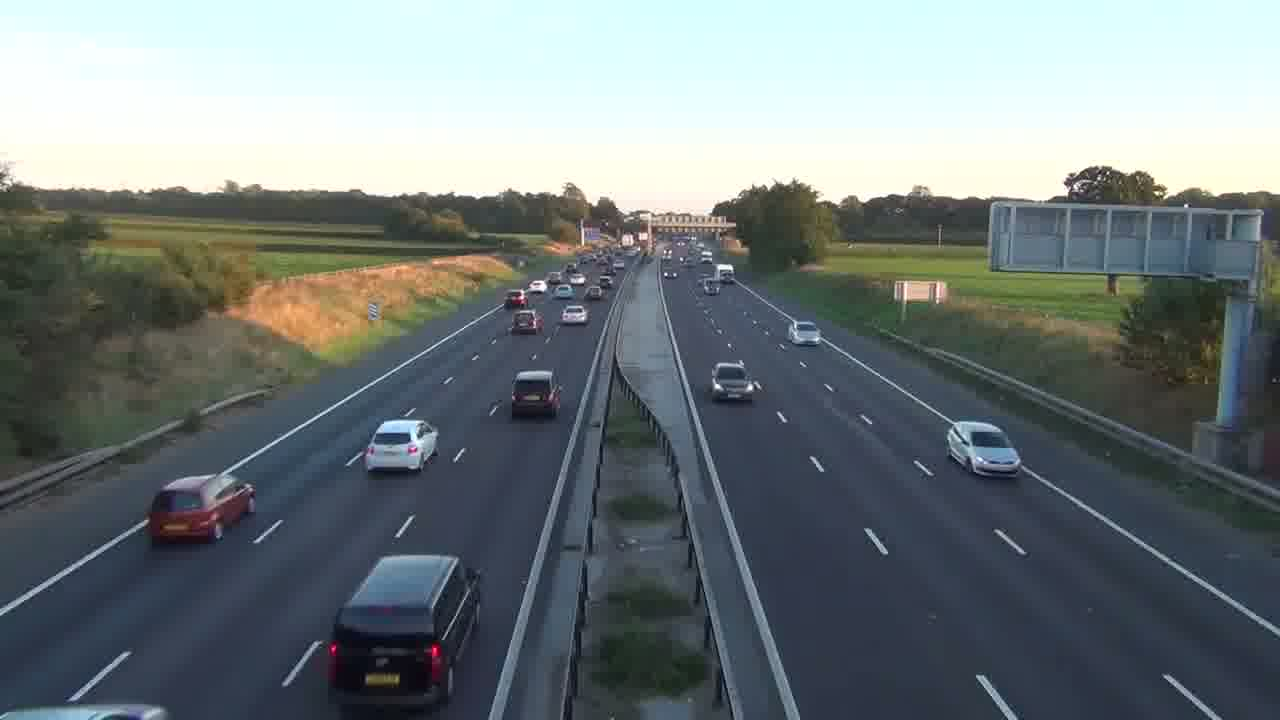car: (146, 472, 256, 545), (945, 420, 1022, 479), (364, 419, 439, 474), (510, 368, 562, 419), (709, 360, 760, 401), (560, 304, 590, 326)
truck: (326, 553, 485, 709)
